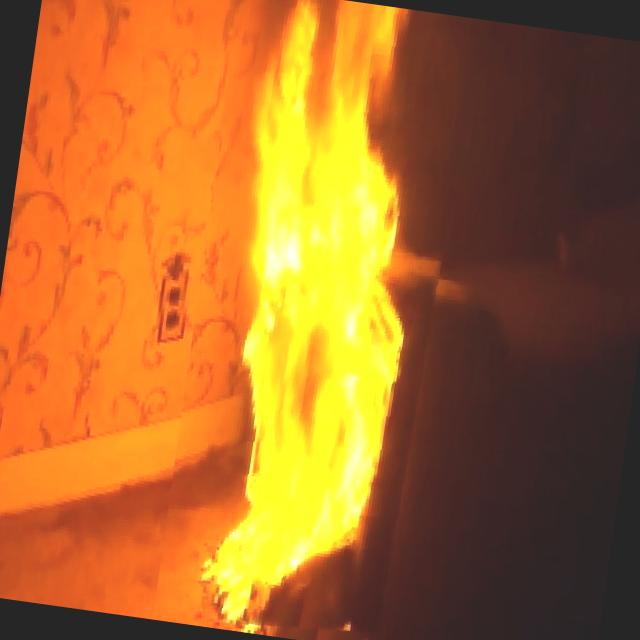fire: (168, 0, 457, 595)
